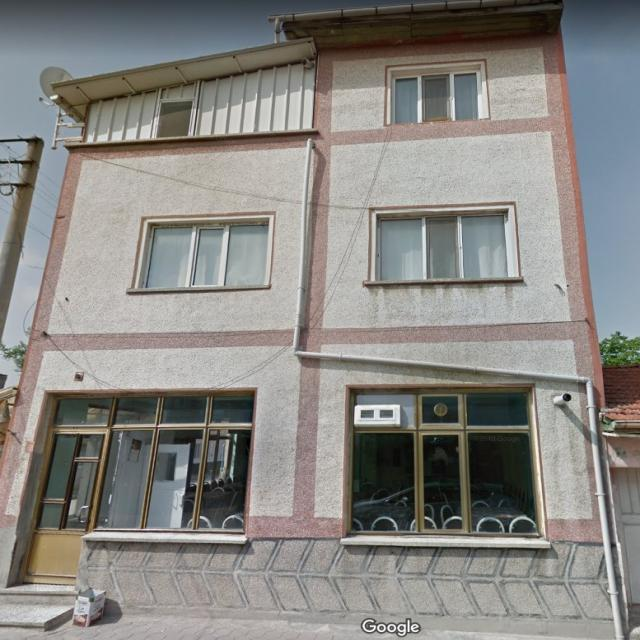Building: (0, 0, 623, 623)
